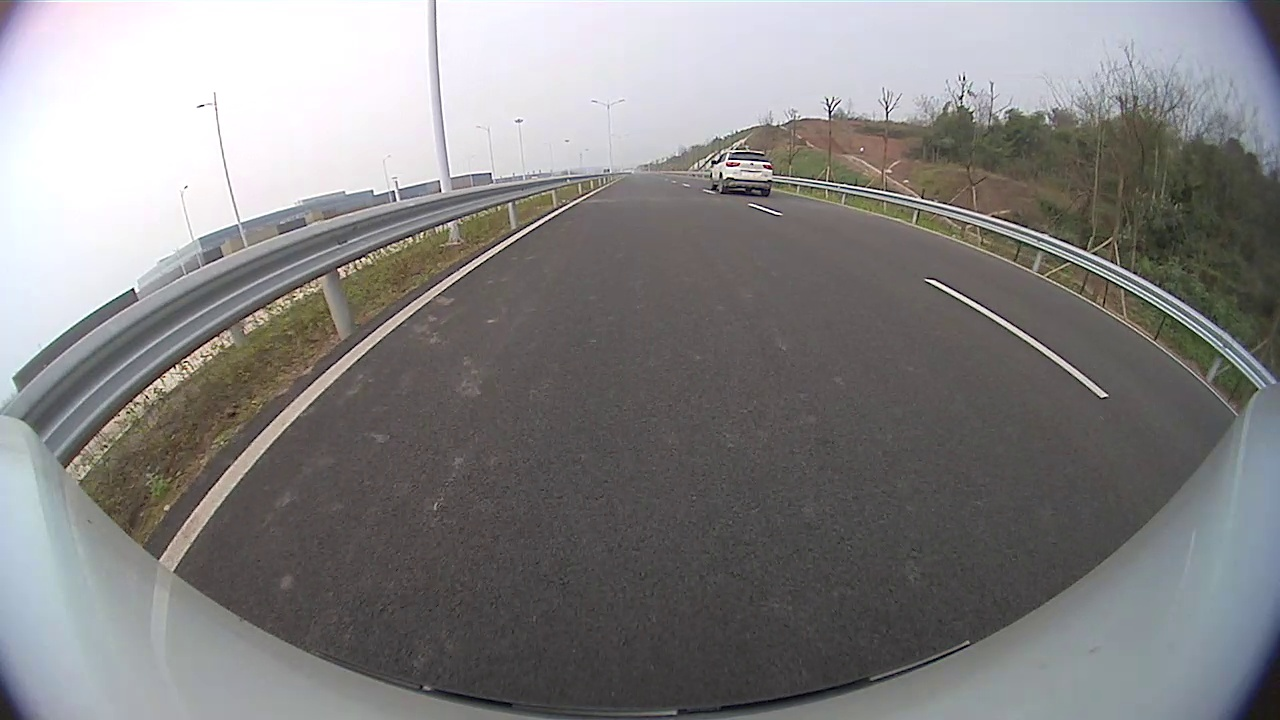car: (708, 149, 775, 198)
front: (708, 178, 716, 191)
rear: (716, 175, 725, 195)
